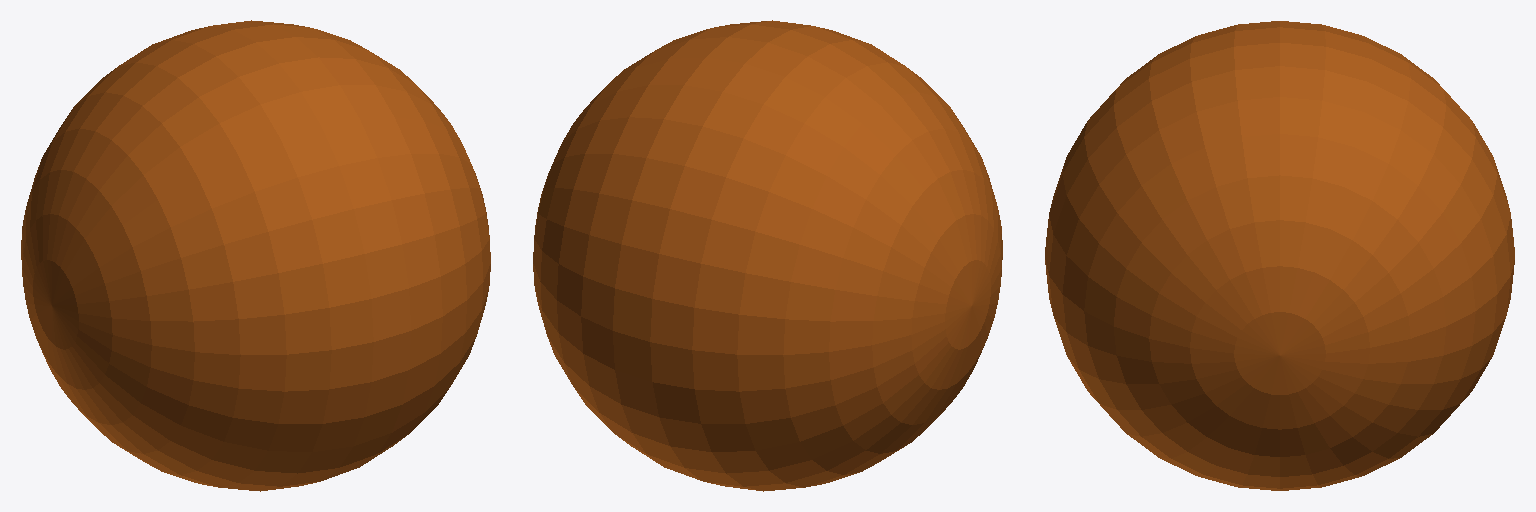
robot.urdf — panda:
<?xml version='1.0' encoding='utf-8'?>
<robot name="panda">

    <link name="link0">
      <inertial>
        <origin xyz="0 0 0.05" rpy="0 0 0" />
        <mass value="4" />
        <inertia ixx="0.4" iyy="0.4" izz="0.4" ixy="0" ixz="0" iyz="0" />
      </inertial>
      <visual>
        <geometry>
          <mesh filename="../../../model/panda/meshes/visual/link0.obj"/>
        </geometry>
      </visual>
<!--       <collision>
        <geometry>
          <mesh filename="../../../model/panda/meshes/collision/link0.obj"/>
        </geometry>
      </collision> -->
    </link>
    <link name="link1">
      <inertial>
        <origin xyz="0 0 -0.07" rpy="0 -0 0" />
        <mass value="4" />
        <inertia ixx="0.3" iyy="0.3" izz="0.3" ixy="0" ixz="0" iyz="0" />
      </inertial>
      <visual>
        <geometry>
          <mesh filename="../../../model/panda/meshes/visual/link1.obj"/>
        </geometry>
      </visual>
      <!-- <collision>
        <geometry>
          <mesh filename="../../../model/panda/meshes/collision/link1.obj"/>
        </geometry>
      </collision> -->
    </link>
    <link name="link2">
      <inertial>
        <origin xyz="0 -0.1 0" rpy="0 -0 0" />
        <mass value="3" />
        <inertia ixx="0.3" iyy="0.3" izz="0.3" ixy="0" ixz="0" iyz="0" />
      </inertial>
      <visual>
        <geometry>
          <mesh filename="../../../model/panda/meshes/visual/link2.obj"/>
        </geometry>
      </visual>
      <!-- <collision>
        <geometry>
          <mesh filename="../../../model/panda/meshes/collision/link2.obj"/>
        </geometry>
      </collision> -->
    </link>
    <link name="link3">
      <inertial>
        <origin xyz="0.04 0 -0.05" rpy="0 -0 0" />
        <mass value="3" />
        <inertia ixx="0.2" iyy="0.2" izz="0.2" ixy="0" ixz="0" iyz="0" />
      </inertial>
      <visual>
        <geometry>
          <mesh filename="../../../model/panda/meshes/visual/link3.obj"/>
        </geometry>
      </visual>
      <!-- <collision>
        <geometry>
          <mesh filename="../../../model/panda/meshes/collision/link3.obj"/>
        </geometry>
      </collision> -->
    </link>
    <link name="link4">
      <inertial>
        <origin xyz="-0.04 0.05 0" rpy="0 -0 0" />
        <mass value="3" />
        <inertia ixx="0.2" iyy="0.2" izz="0.2" ixy="0" ixz="0" iyz="0" />
      </inertial>
      <visual>
        <geometry>
          <mesh filename="../../../model/panda/meshes/visual/link4.obj"/>
        </geometry>
      </visual>
<!--       <collision>
        <geometry>
          <mesh filename="../../../model/panda/meshes/collision/link4.obj"/>
        </geometry>
      </collision> -->
    </link>
    <link name="link5">
      <inertial>
        <origin xyz="0 0 -0.15" rpy="0 -0 0" />
        <mass value="3" />
        <inertia ixx="0.2" iyy="0.2" izz="0.2" ixy="0" ixz="0" iyz="0" />
      </inertial>
      <visual>
        <geometry>
          <mesh filename="../../../model/panda/meshes/visual/link5.obj"/>
        </geometry>
      </visual>
<!--       <collision>
        <geometry>
          <mesh filename="../../../model/panda/meshes/collision/link5.obj"/>
        </geometry>
      </collision> -->
    </link>
    <link name="link6">
      <inertial>
        <origin xyz="0.06 0 0" rpy="0 -0 0" />
        <mass value="2" />
        <inertia ixx="0.1" iyy="0.1" izz="0.1" ixy="0" ixz="0" iyz="0" />
      </inertial>
      <visual>
        <geometry>
          <mesh filename="../../../model/panda/meshes/visual/link6.obj"/>
        </geometry>
      </visual>
      <!-- <collision>
        <geometry>
          <mesh filename="../../../model/panda/meshes/collision/link6.obj"/>
        </geometry>
      </collision> -->
    </link>
    <link name="link7">
      <inertial>
        <origin xyz="0 0 0.1" rpy="0 -0 0" />
        <mass value="1.0" />
        <inertia ixx="0.1" iyy="0.1" izz="0.25" ixy="0" ixz="0" iyz="0" />
      </inertial>
      <visual>
        <geometry>
          <mesh filename="../../../model/panda/meshes/visual/link7.obj"/>
        </geometry>
      </visual>
      <visual>
        <origin xyz="0 0 0.15" rpy="0 -0 0" />
        <geometry>
          <sphere radius="0.03"/>
        </geometry>
        <material name="orange">
                <color rgba="0.7 0.4 0.15 0.1" />
            </material>
      </visual>
      <collision>
        <origin xyz="0 0 0.15" rpy="0 -0 0" />
        <geometry>
          <sphere radius="0.03"/>
        </geometry>
      </collision>
    </link>
    <joint name="joint1" type="revolute">
      <safety_controller k_position="100.0" k_velocity="40.0" soft_lower_limit="-2.8973" soft_upper_limit="2.8973"/>
      <origin rpy="0 0 0" xyz="0 0 0.333"/>
      <parent link="link0"/>
      <child link="link1"/>
      <axis xyz="0 0 1"/>
      <limit effort="87" lower="-2.8973" upper="2.8973" velocity="2.1750"/>
    </joint>
    <joint name="joint2" type="revolute">
      <safety_controller k_position="100.0" k_velocity="40.0" soft_lower_limit="-1.7628" soft_upper_limit="1.7628"/>
      <origin rpy="-1.57079632679 0 0" xyz="0 0 0"/>
      <parent link="link1"/>
      <child link="link2"/>
      <axis xyz="0 0 1"/>
      <calibration falling="-45.0" />
      <limit effort="87" lower="-1.7628" upper="1.7628" velocity="2.1750"/>
    </joint>
    <joint name="joint3" type="revolute">
      <safety_controller k_position="100.0" k_velocity="40.0" soft_lower_limit="-2.8973" soft_upper_limit="2.8973"/>
      <origin rpy="1.57079632679 0 0" xyz="0 -0.316 0"/>
      <parent link="link2"/>
      <child link="link3"/>
      <axis xyz="0 0 1"/>
      <limit effort="87" lower="-2.8973" upper="2.8973" velocity="2.1750"/>
    </joint>
    <joint name="joint4" type="revolute">
      <safety_controller k_position="100.0" k_velocity="40.0" soft_lower_limit="-3.0718" soft_upper_limit="-0.0698"/>
      <origin rpy="1.57079632679 0 0" xyz="0.0825 0 0"/>
      <parent link="link3"/>
      <child link="link4"/>
      <axis xyz="0 0 1"/>
      <calibration falling="-125.0" />
      <limit effort="87" lower="-3.0718" upper="-0.0698" velocity="2.1750"/>
    </joint>
    <joint name="joint5" type="revolute">
      <safety_controller k_position="100.0" k_velocity="40.0" soft_lower_limit="-2.8973" soft_upper_limit="2.8973"/>
      <origin rpy="-1.57079632679 0 0" xyz="-0.0825 0.384 0"/>
      <parent link="link4"/>
      <child link="link5"/>
      <axis xyz="0 0 1"/>
      <limit effort="12" lower="-2.8973" upper="2.8973" velocity="2.6100"/>
    </joint>
    <joint name="joint6" type="revolute">
      <safety_controller k_position="100.0" k_velocity="40.0" soft_lower_limit="-0.0175" soft_upper_limit="3.7525"/>
      <origin rpy="1.57079632679 0 0" xyz="0 0 0"/>
      <parent link="link5"/>
      <child link="link6"/>
      <axis xyz="0 0 1"/>
      <calibration falling="80.0" />
      <limit effort="12" lower="-0.0175" upper="3.7525" velocity="2.6100"/>
    </joint>
    <joint name="joint7" type="revolute">
      <safety_controller k_position="100.0" k_velocity="40.0" soft_lower_limit="-2.8973" soft_upper_limit="2.8973"/>
      <origin rpy="1.57079632679 0 0" xyz="0.088 0 0"/>
      <parent link="link6"/>
      <child link="link7"/>
      <axis xyz="0 0 1"/>
      <limit effort="12" lower="-2.8973" upper="2.8973" velocity="2.6100"/>
    </joint>
</robot>

--- Render facts (derived) ---
Views: 3 orthographic renders of the robot side by side, from view 1: azimuth 30°, elevation 25°; view 2: azimuth 150°, elevation 25°; view 3: azimuth 270°, elevation 25°.
Model panda with 8 links and 7 joints (7 revolute), rooted at link0, posed joints at zero except 1 at the middle of their limits (joint4 = -1.57).
Links seen in each view (by area): view 1: link7; view 2: link7; view 3: link7.
Boxes of the visible links, bbox=[...] form: link7: bbox=[21, 20, 490, 491]; link7: bbox=[533, 20, 1002, 491]; link7: bbox=[1045, 21, 1514, 490].
Bounding box of the posed robot: 0.06 × 0.06 × 0.06 m (x, y, z).
Geometry: only primitive shapes (box / cylinder / sphere) drawn; not drawn: 8 mesh visuals (reference in a form the renderer does not follow).